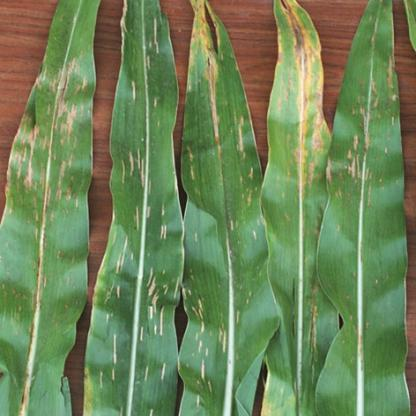corn leaf blight: (84, 1, 182, 415), (1, 2, 93, 415), (188, 2, 264, 415), (262, 3, 338, 415), (331, 6, 404, 415)
